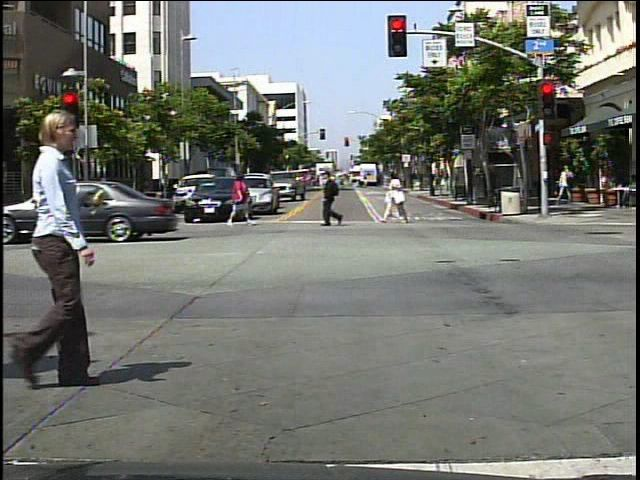person: (12, 89, 119, 400), (318, 157, 355, 232), (381, 163, 412, 227), (224, 168, 257, 227), (556, 160, 577, 206)
